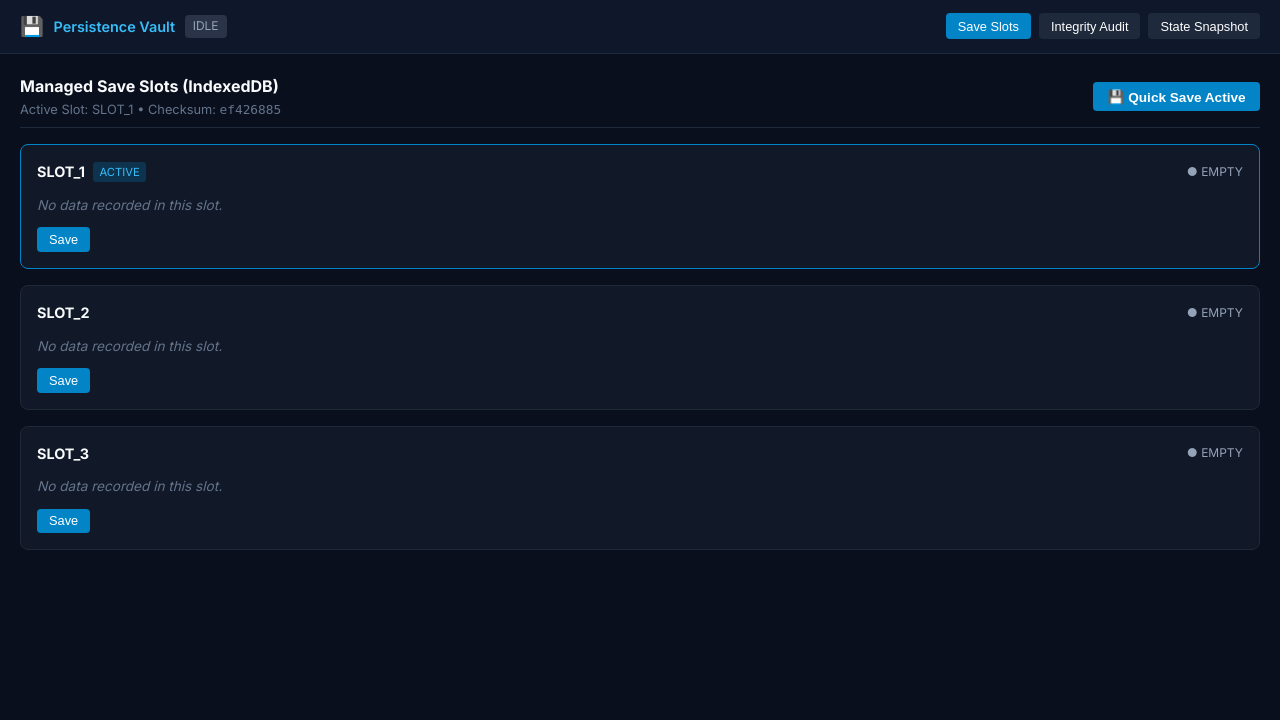
Test: SaveManagerApp Desktop Component › switches to Integrity Audit tab and displays checksum
Check: the element with test id "app-slot-row-slot_1" is shown, box [20,144,1260,269]
Click the button with test id "tab-save-audit" at (1090, 26), box [1039,13,1140,40]
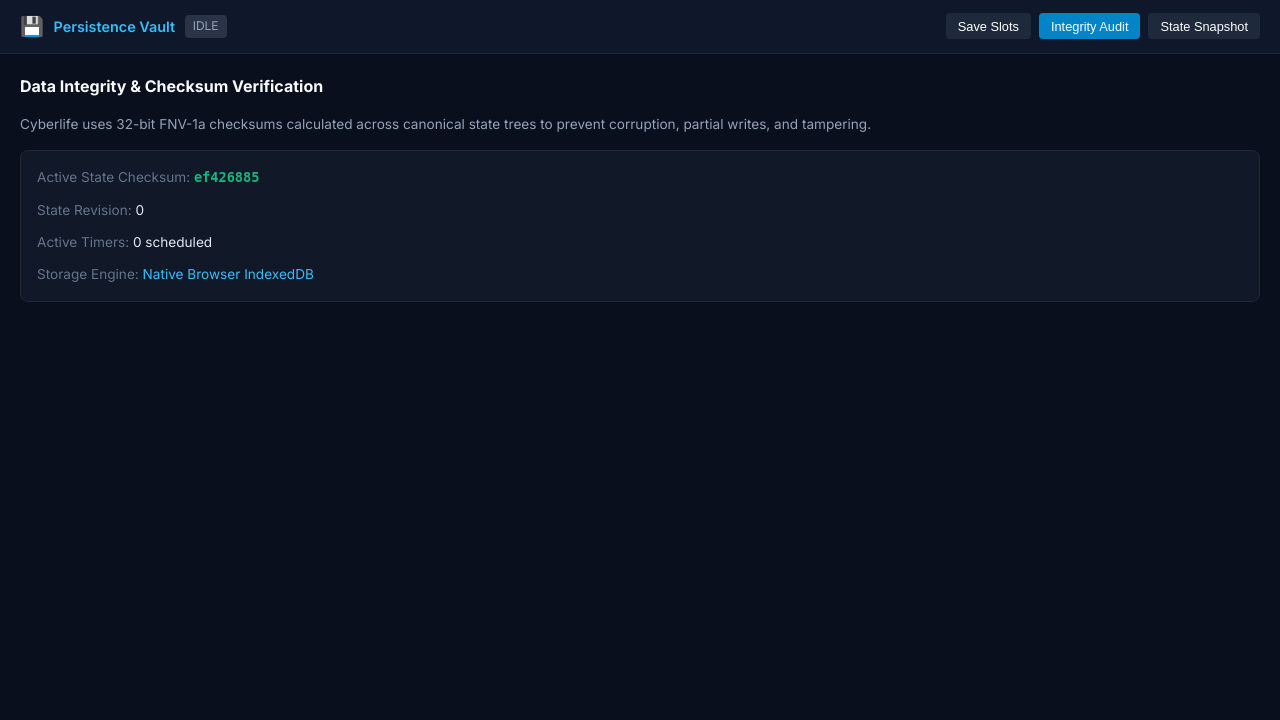
Check: the text with test id "audit-current-checksum" reads "ef426885", box [194,169,259,185]
Check: the heading "Data Integrity & Checksum Verification" is shown, box [20,76,323,96]
